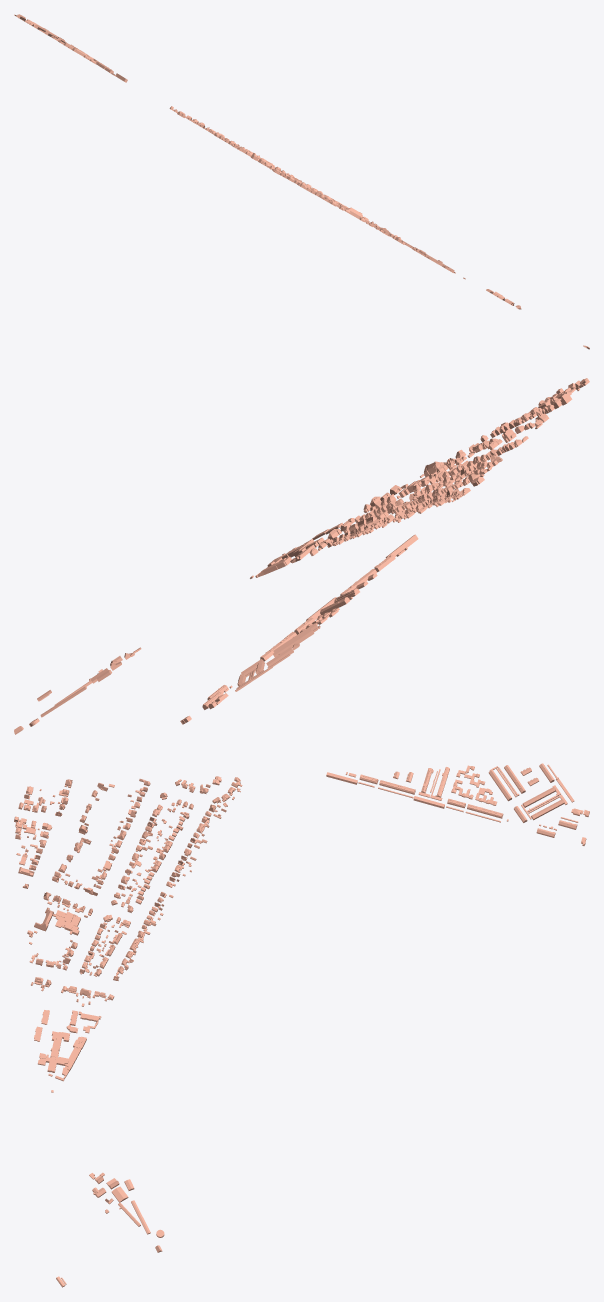
3 views of the same model, one above another, from view 1: azimuth 30°, elevation 25°; view 2: azimuth 150°, elevation 25°; view 3: azimuth 270°, elevation 25° (orthographic). The views are drawn at different scales.
Size of the model in its own units: 1023 by 734 by 1196.
